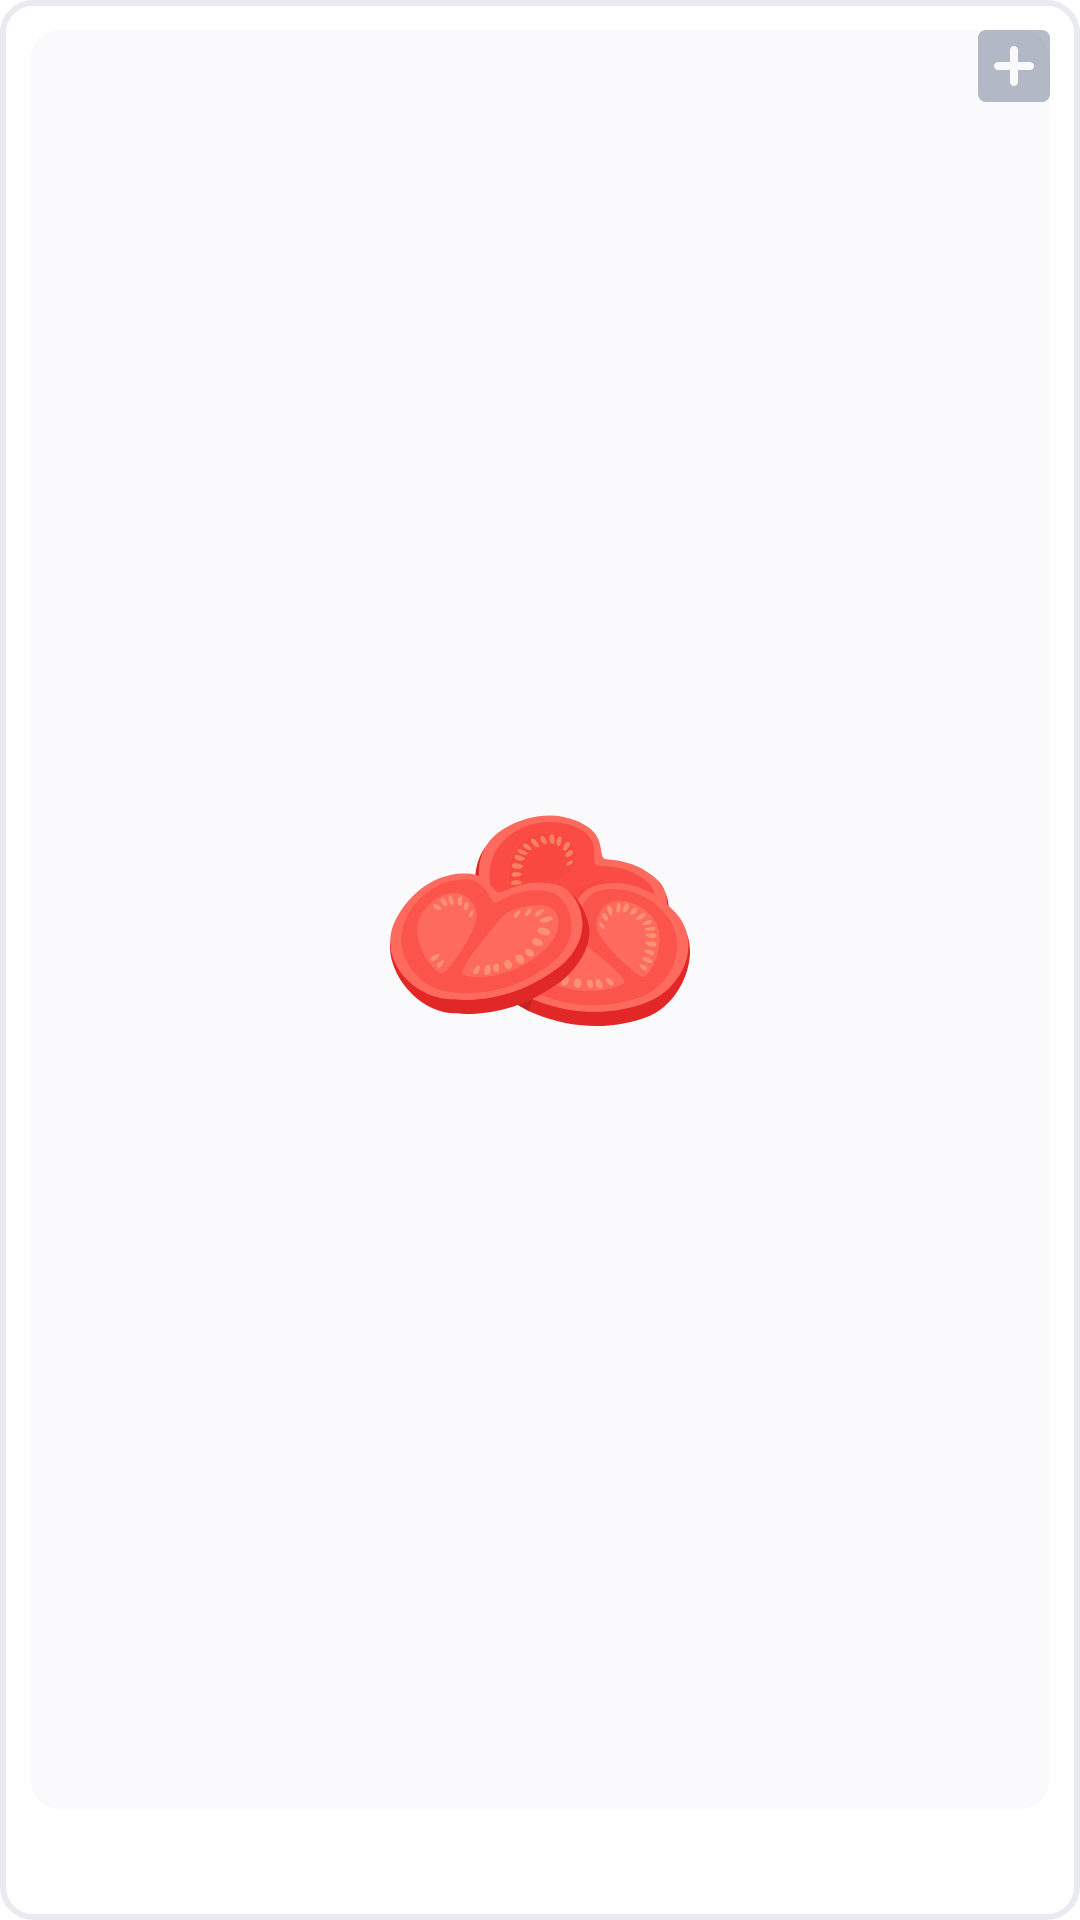

Screen size 1080×1920. Icon name, then its box in pixels as (left=x1, top=y1, right=x2, bottom=y2):
add box: (left=978, top=30, right=1050, bottom=102)
topping tomatoes: (left=390, top=815, right=690, bottom=1026)
